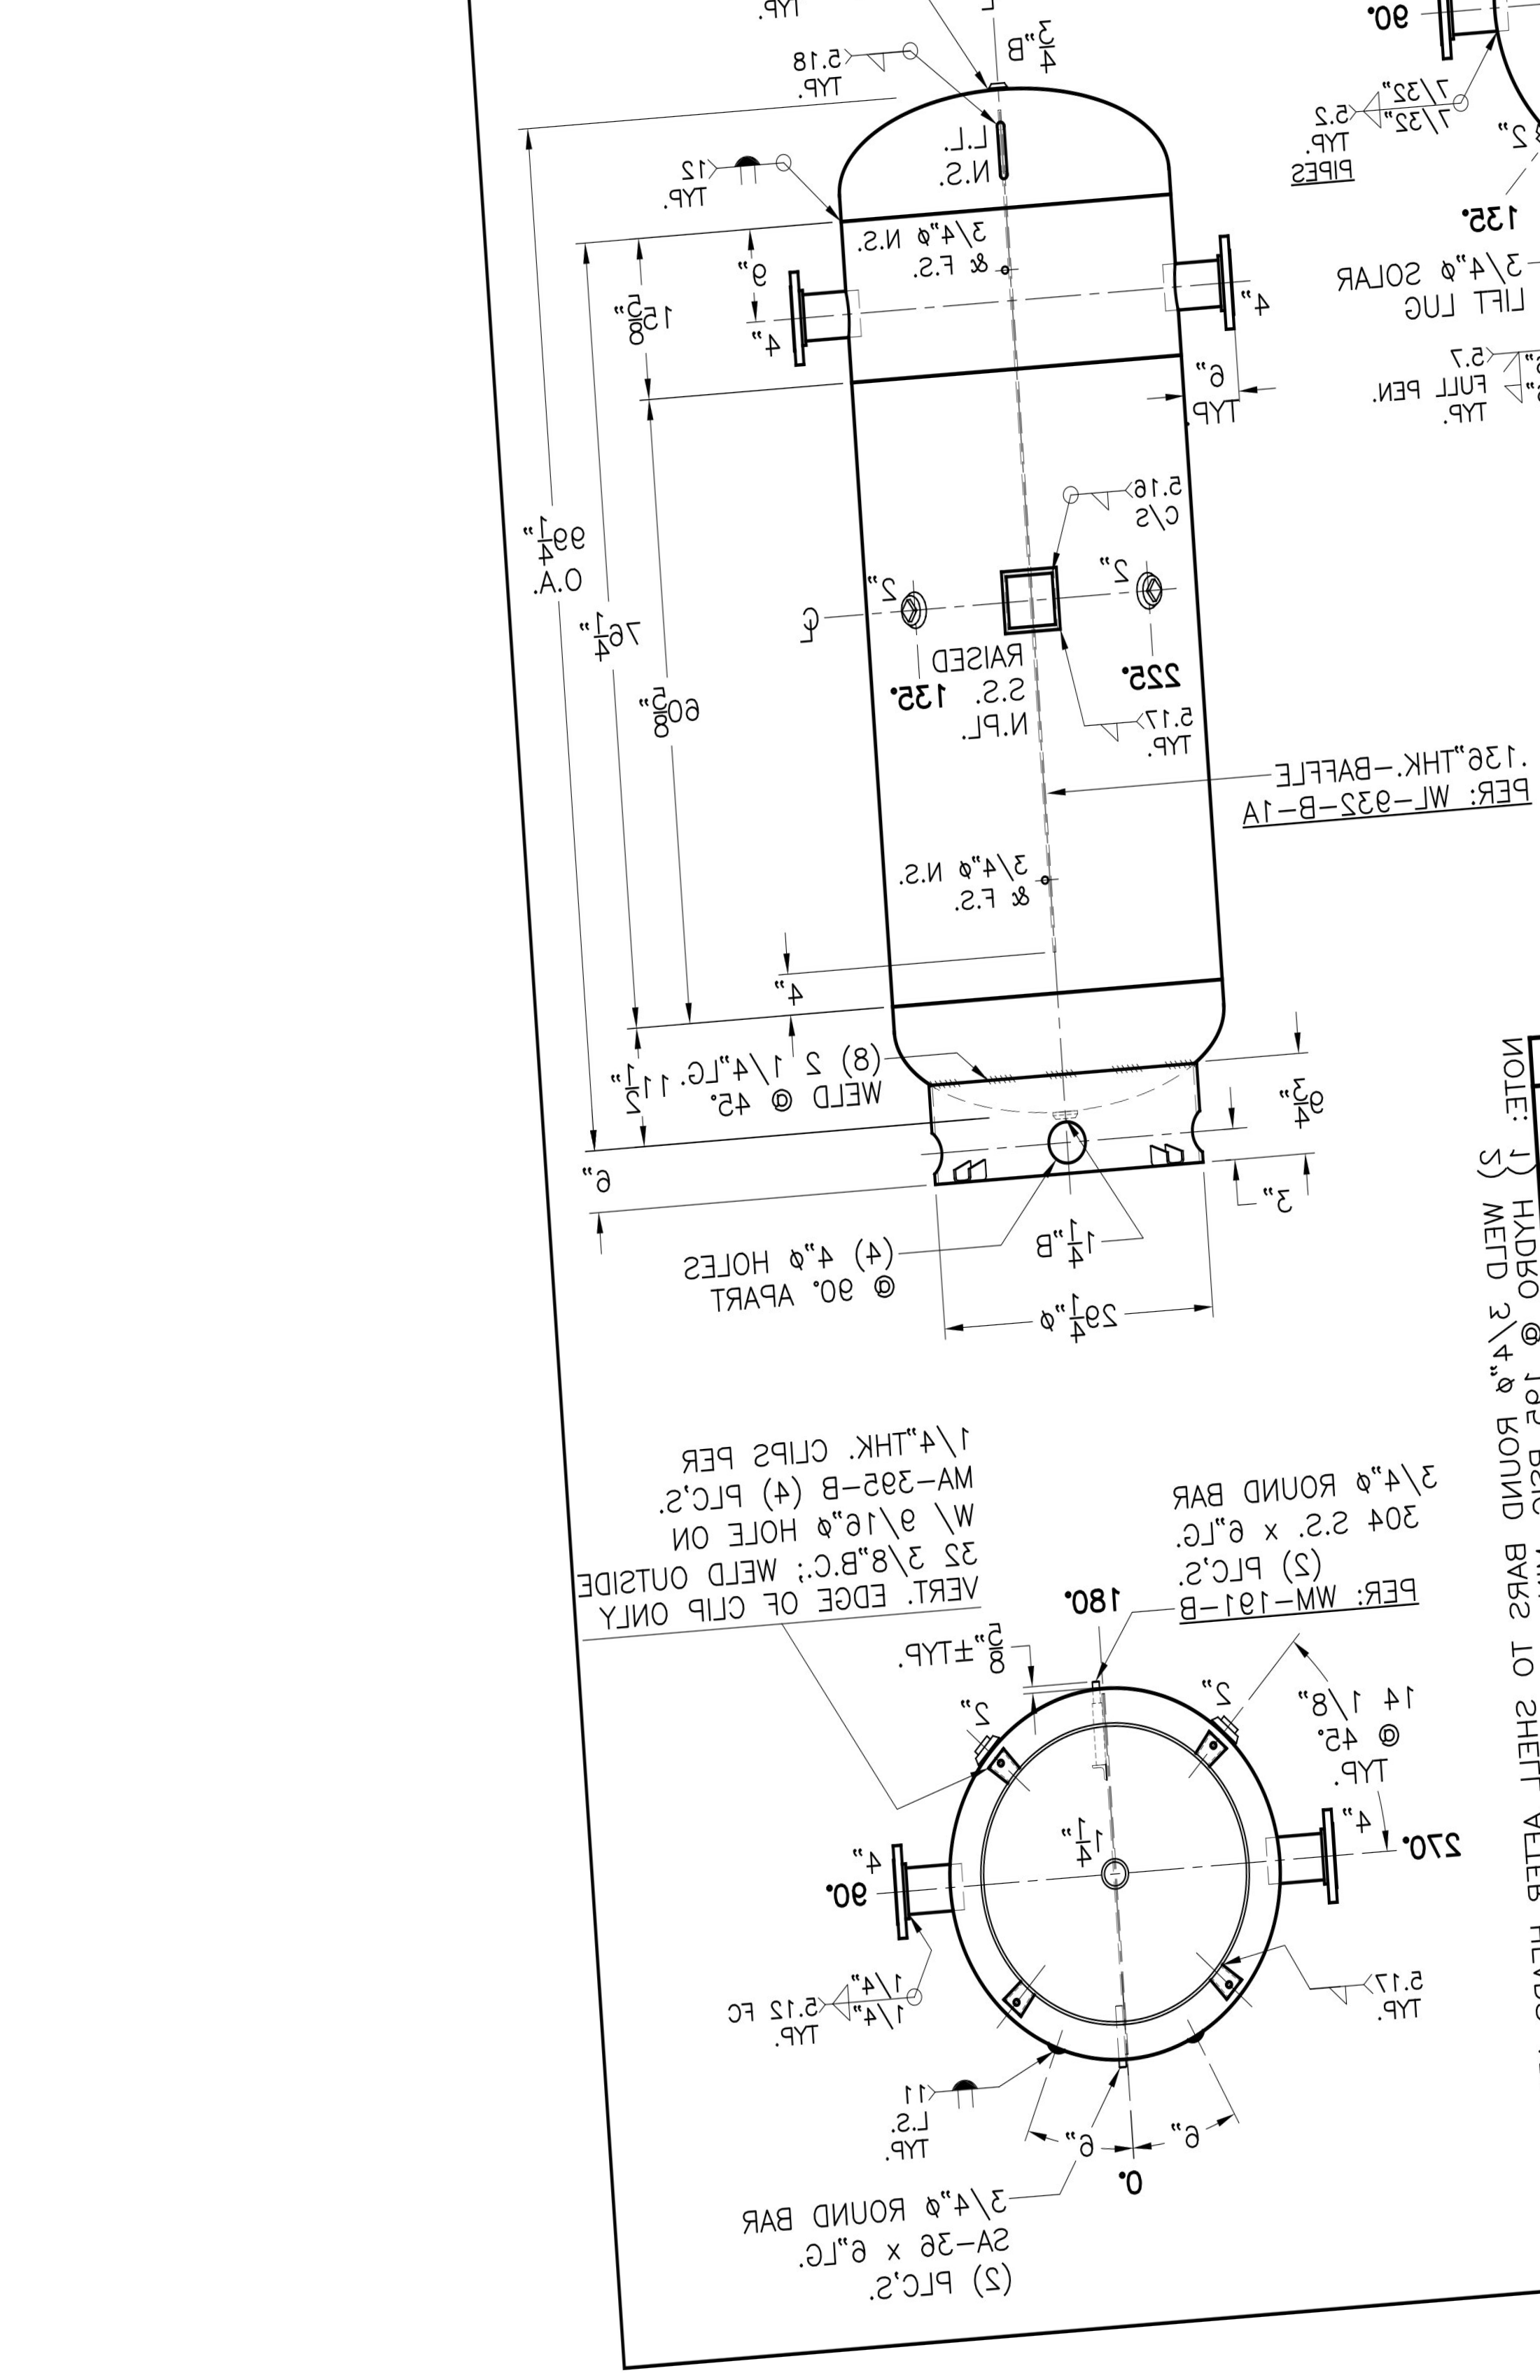Nozzle: (742, 253, 890, 397), (1238, 1787, 1375, 1936), (893, 1814, 1002, 1983), (1162, 220, 1271, 376), (1394, 0, 1507, 73)
